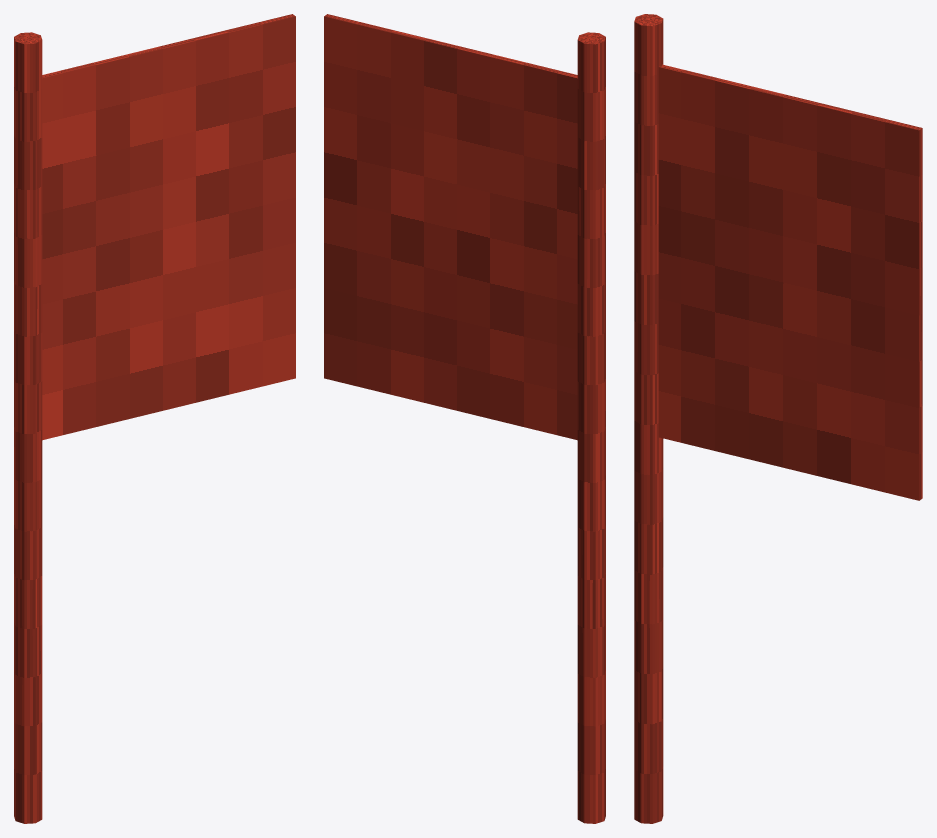
The model's file is banner_55.glb.
3 renders of one model, left to right at view 1: azimuth 30°, elevation 25°; view 2: azimuth 150°, elevation 25°; view 3: azimuth 330°, elevation 25°, orthographic. The views are drawn at different scales.
Visible parts, largest first — view 1: Cloth, Pole; view 2: Cloth, Pole; view 3: Cloth, Pole.
Part boxes in pixels (bbox=[...]): Cloth: bbox=[42, 14, 295, 440]; Pole: bbox=[14, 32, 42, 823]; Cloth: bbox=[324, 14, 577, 440]; Pole: bbox=[577, 32, 605, 823]; Cloth: bbox=[658, 64, 922, 500]; Pole: bbox=[634, 14, 663, 823].
Size of the model in its own units: 1.21 by 3.24 by 0.11.
1 material, 1 textured.
